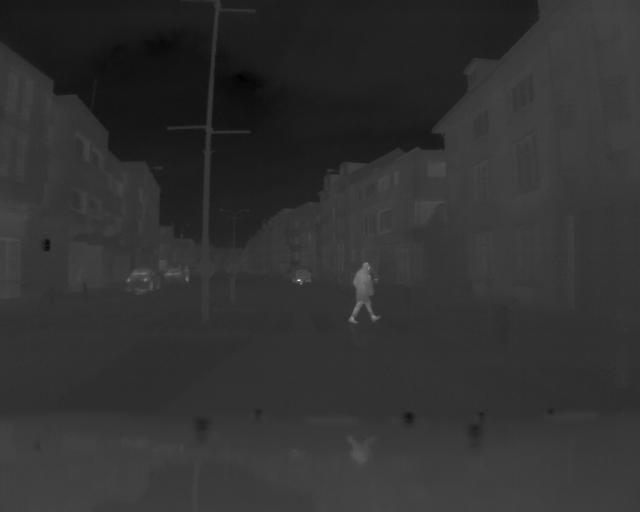car: (124, 267, 166, 296)
person: (350, 258, 380, 328), (180, 261, 193, 286)
